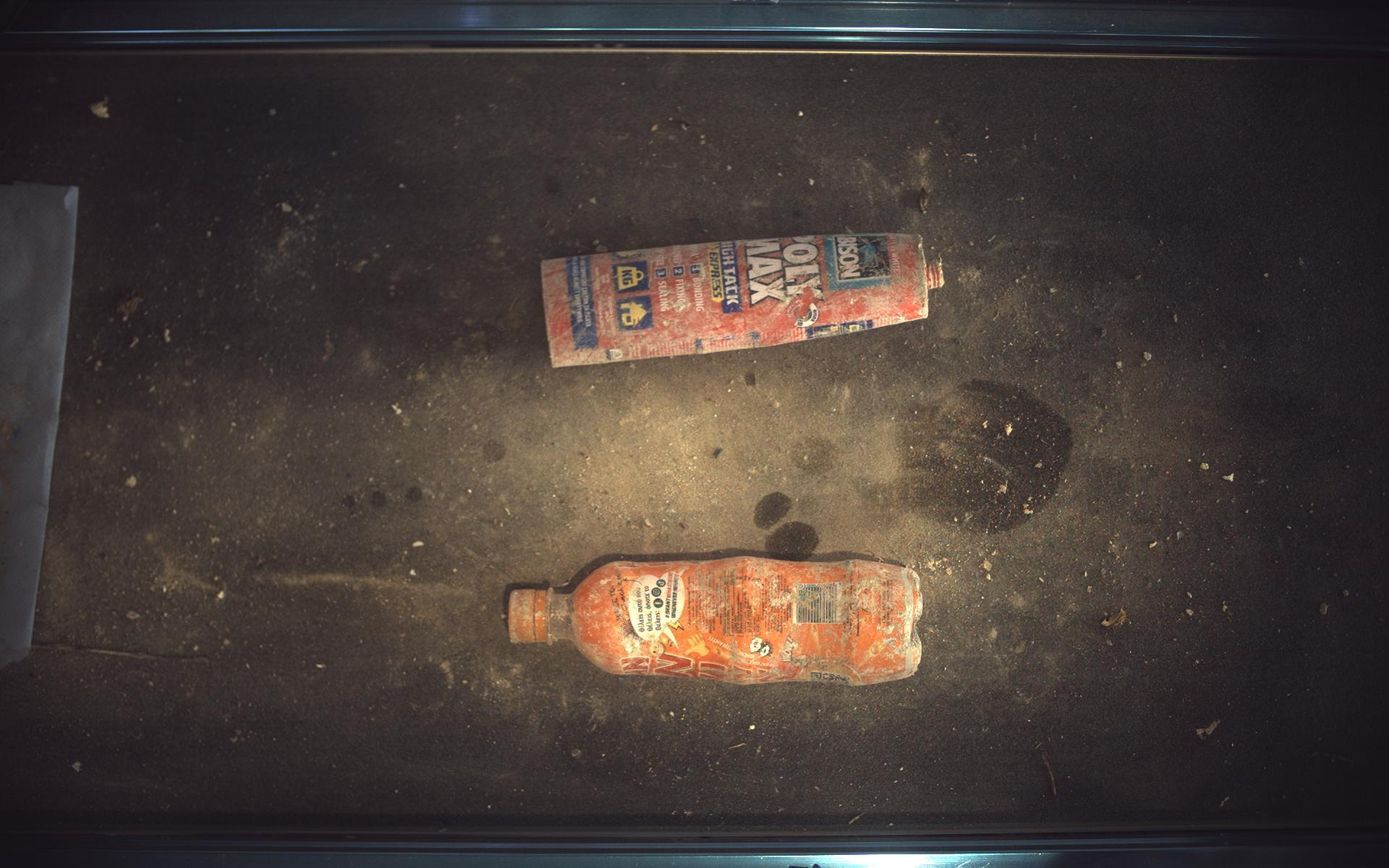general_w: (507, 555, 925, 686)
plastic: (542, 233, 946, 367)
